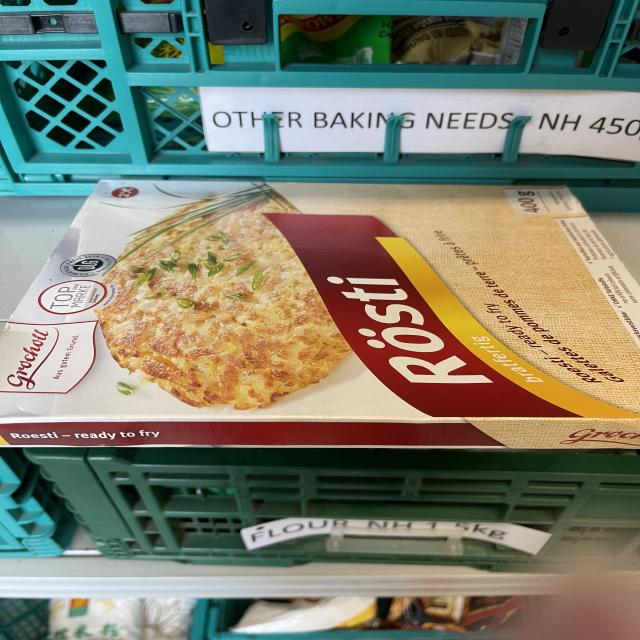object_name: (24, 181, 638, 451)
